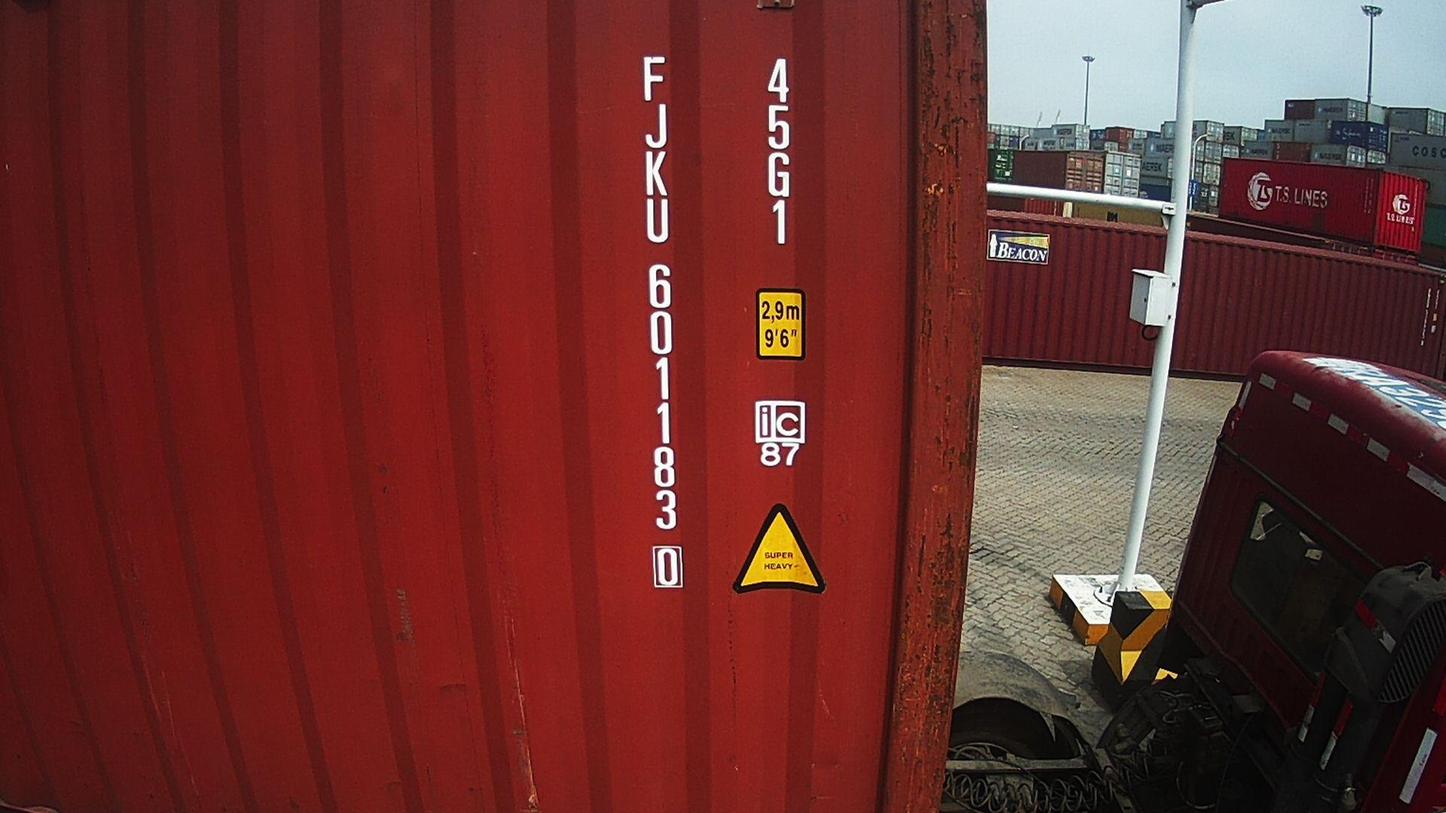container-numbers: (636, 48, 688, 596), (759, 53, 798, 248)
